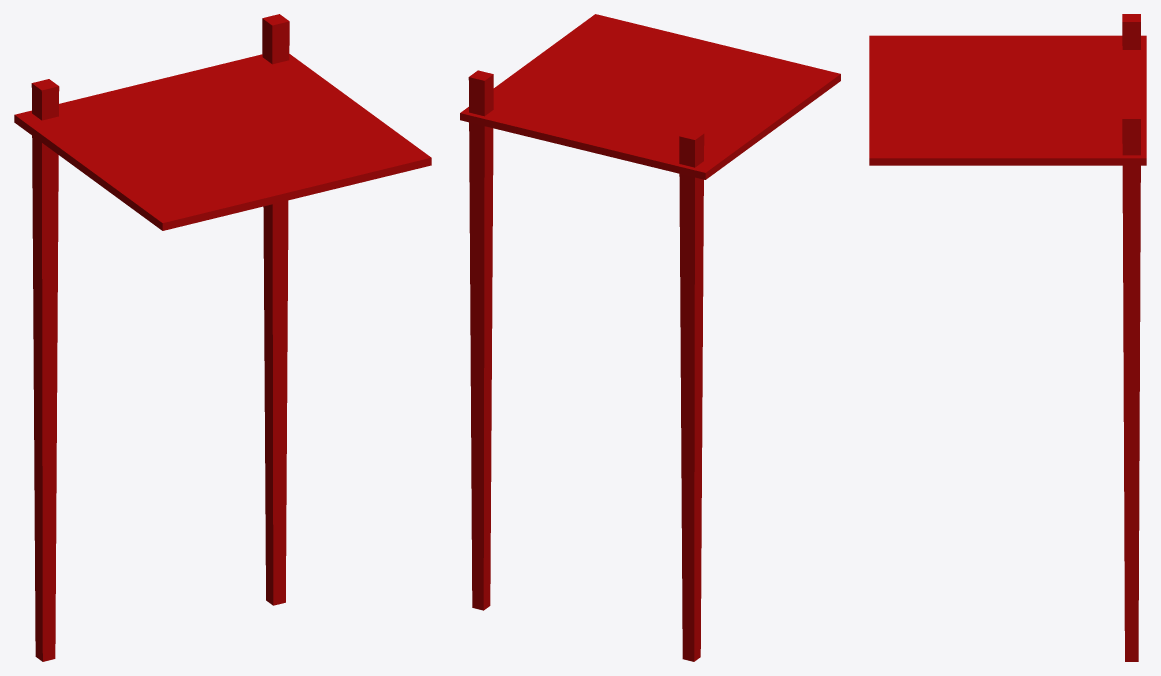
File: SM_Env_Dock_02_Collision.gltf
The picture shows the model from 3 angles, left to right: view 1: azimuth 30°, elevation 25°; view 2: azimuth 150°, elevation 25°; view 3: azimuth 270°, elevation 25°; orthographic projection. The views are drawn at different scales.
Parts seen in each view (by area): view 1: SM_Env_Dock_02_Collision; view 2: SM_Env_Dock_02_Collision; view 3: SM_Env_Dock_02_Collision.
Part boxes in pixels (x1,y1,x2,y2): SM_Env_Dock_02_Collision: (14,14,431,661); SM_Env_Dock_02_Collision: (460,14,840,661); SM_Env_Dock_02_Collision: (869,14,1146,661).
Bounding box in the file's own units: 3.73 × 7.71 × 3.56.
